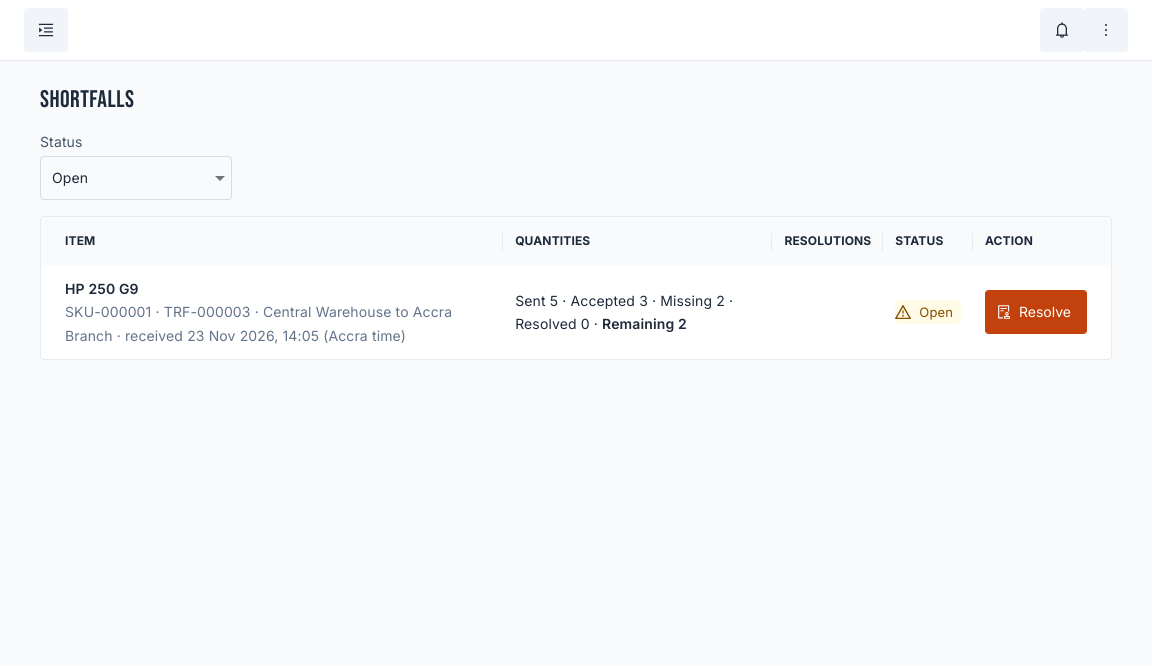
FIX-48 shortfall quantity above what remains is refused in the form › remaining + 1 shows an error on Quantity and sends no POST
Step 1. Click the button with aria-label "Resolve shortfall of HP 250 G9" → (1036, 312), box 985,290 -> 1087,334
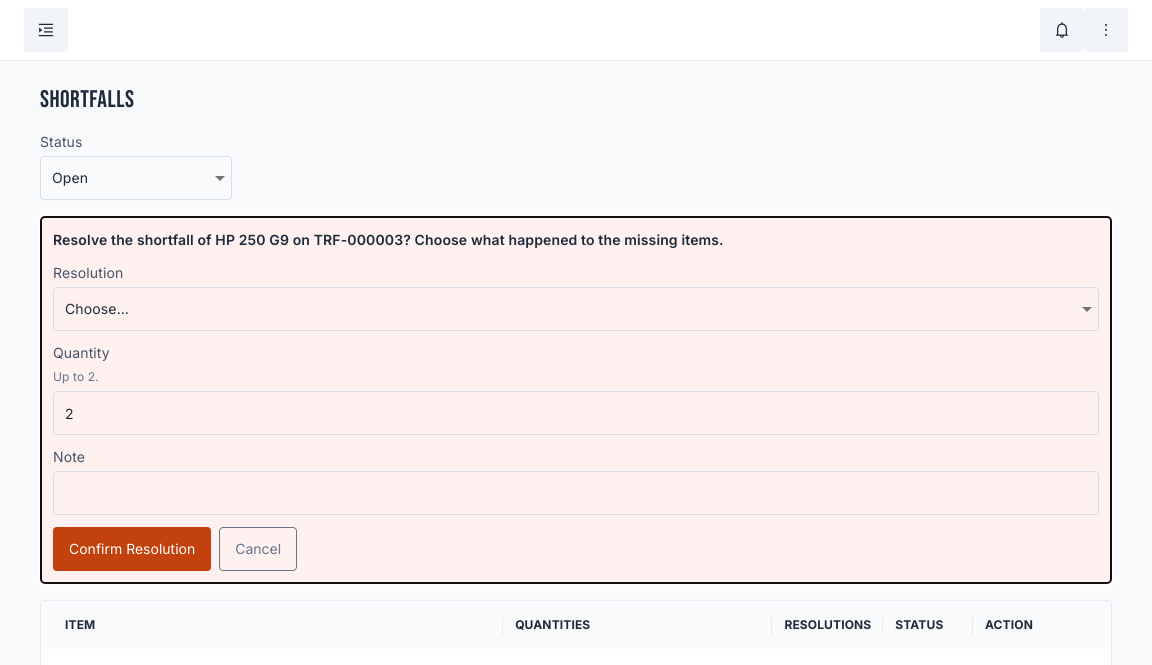
Step 2. Select "Confirm loss" in the dropdown labelled "Resolution" → (576, 309), box 53,287 -> 1099,331
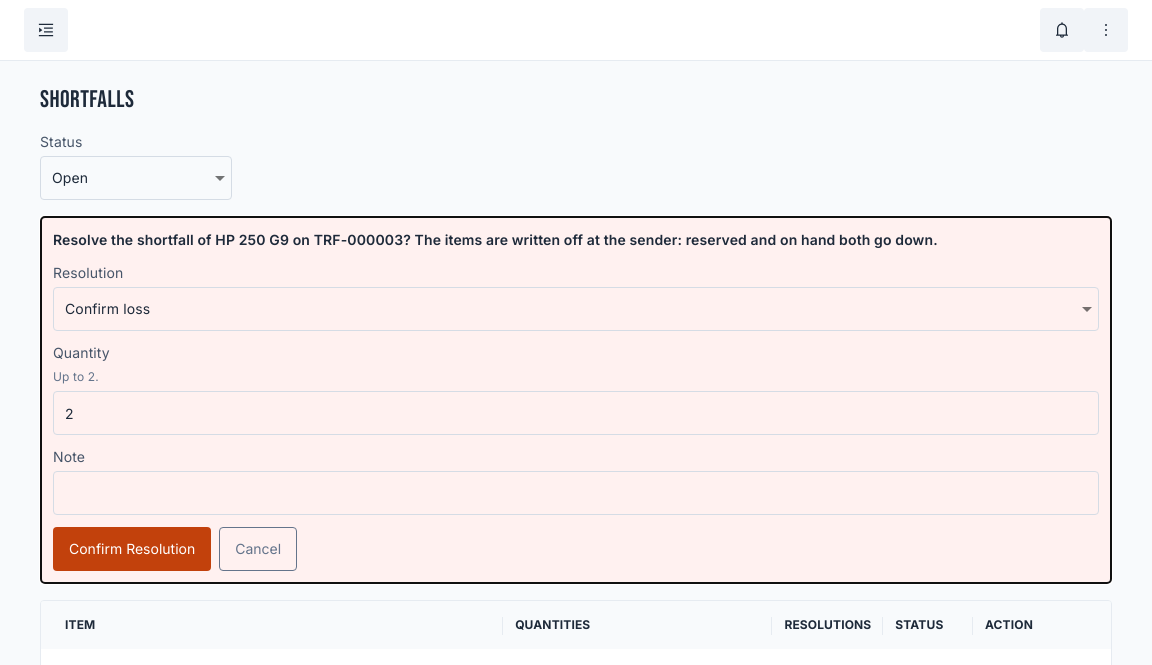
Step 3. Replace the text in the field labelled "Quantity" with "3" → (576, 413), box 53,391 -> 1099,435
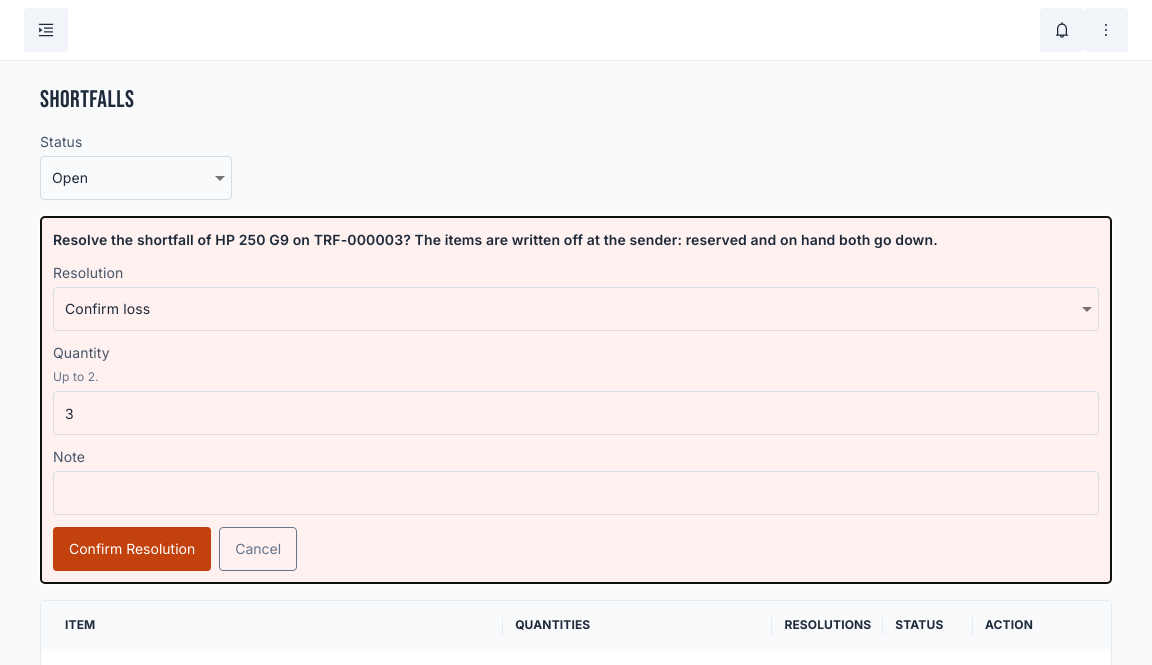
Step 4. Type "x" into the field labelled "Note" → (576, 493), box 53,471 -> 1099,515
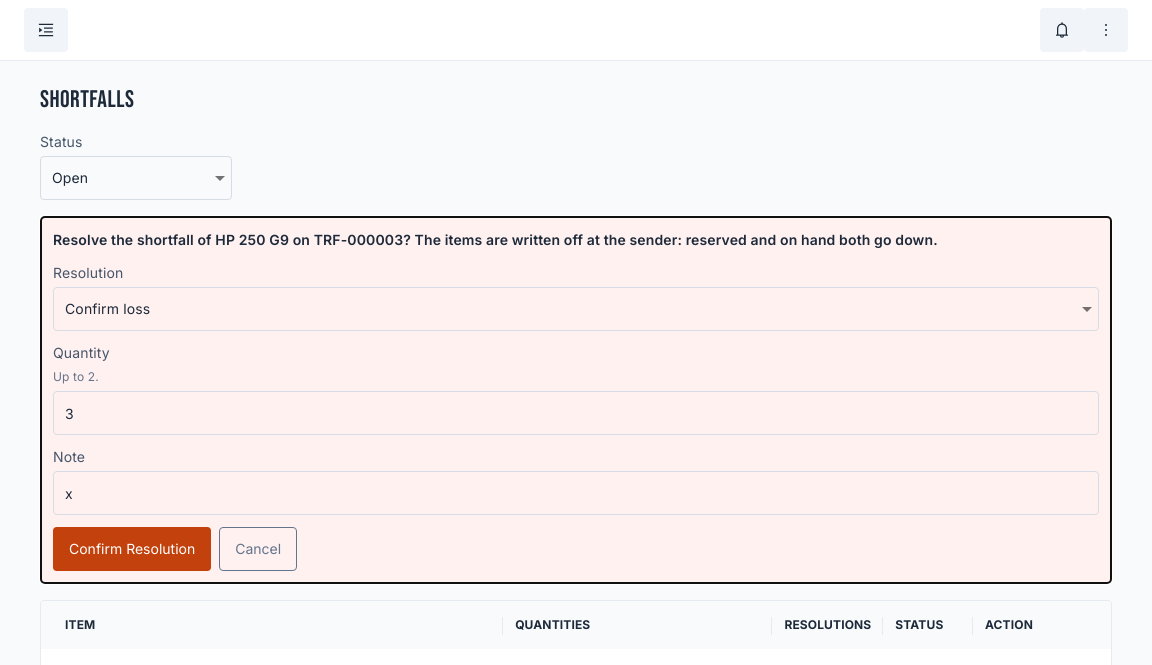
Step 5. Click the button "Confirm resolution" → (132, 549), box 53,527 -> 211,571
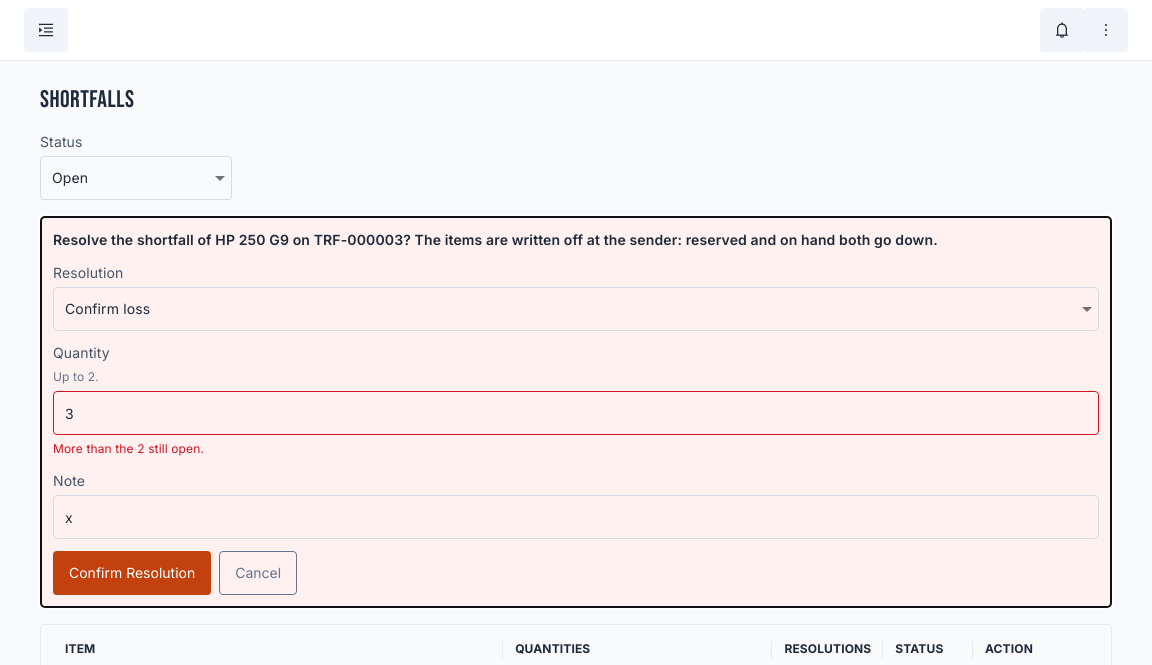
Result: the text "More than the 2 still open." is shown at 53,441 -> 204,456
